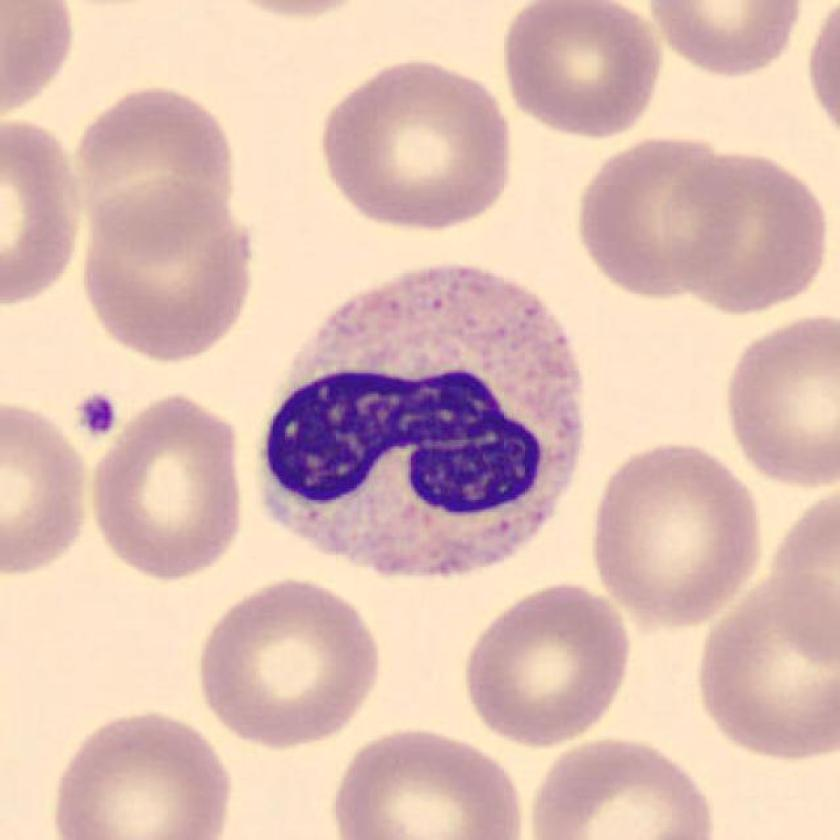neutrophil: (258, 264, 584, 579)
